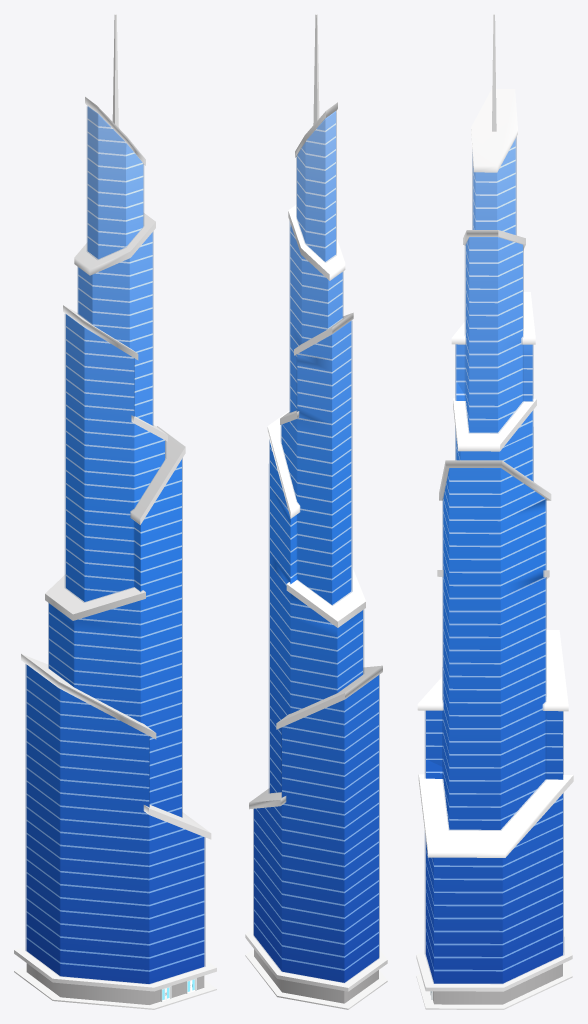
File: Building_Skyscraper_07.glb
3 renders of one model, left to right at view 1: azimuth 30°, elevation 25°; view 2: azimuth 150°, elevation 25°; view 3: azimuth 270°, elevation 25°, orthographic.
Visible parts, largest first — view 1: Building_Skyscraper_07; view 2: Building_Skyscraper_07; view 3: Building_Skyscraper_07.
Boxes of the visible parts, x1,y1,x2,y2 form: Building_Skyscraper_07: (14,14,216,1009); Building_Skyscraper_07: (245,14,387,1009); Building_Skyscraper_07: (416,14,573,1009).
Size of the model in its own units: 24.69 by 169 by 25.03.
2 materials, 2 textured.
